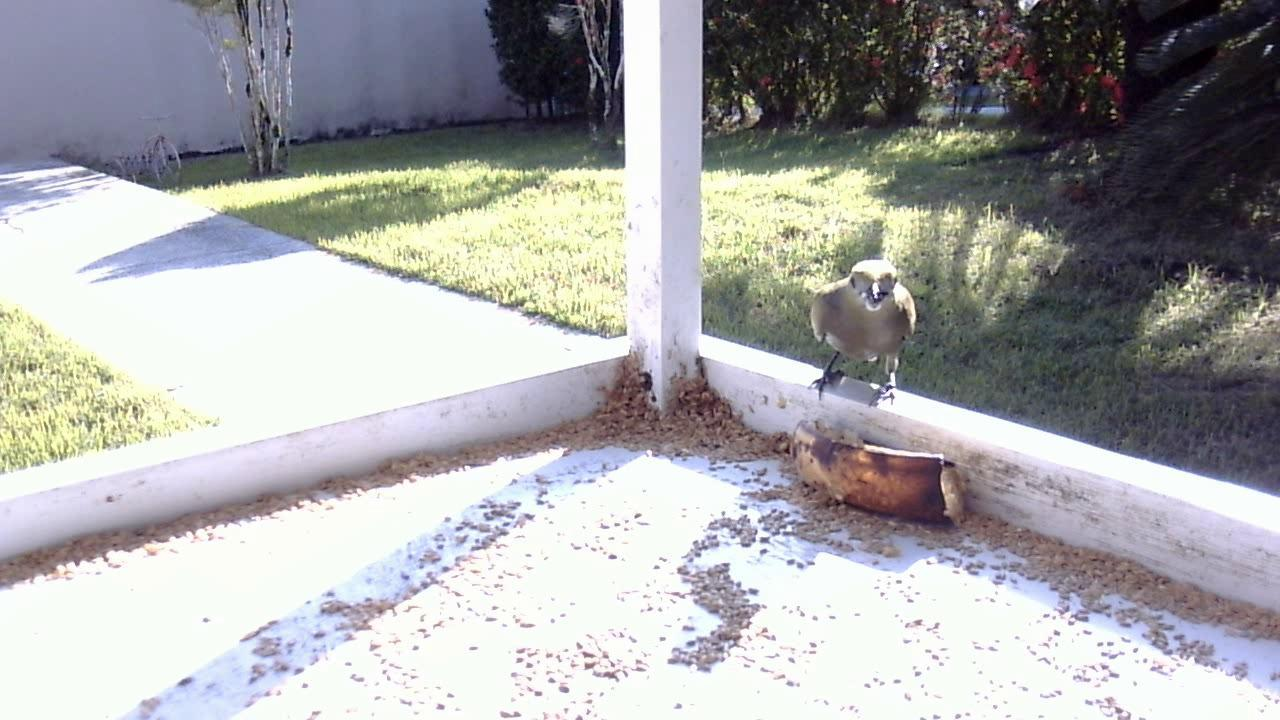sanhaco_do_coqueiro: (800, 256, 919, 411)
